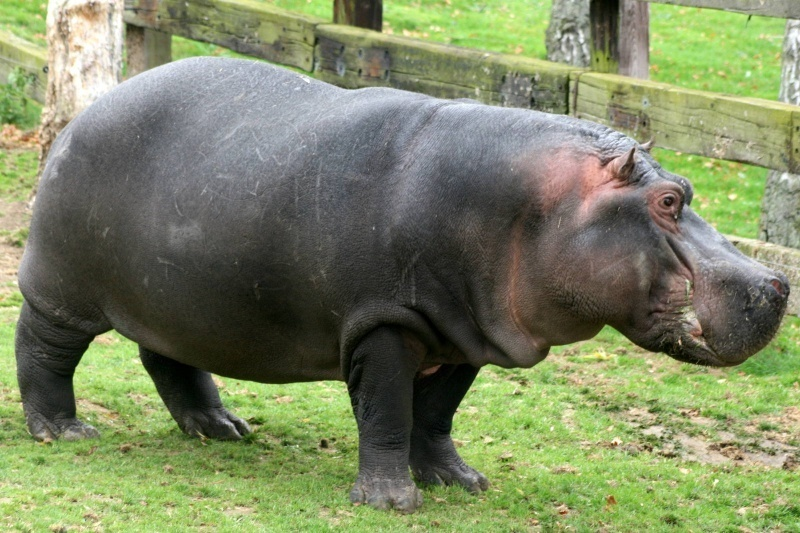hipopotamo: (17, 50, 791, 513)
